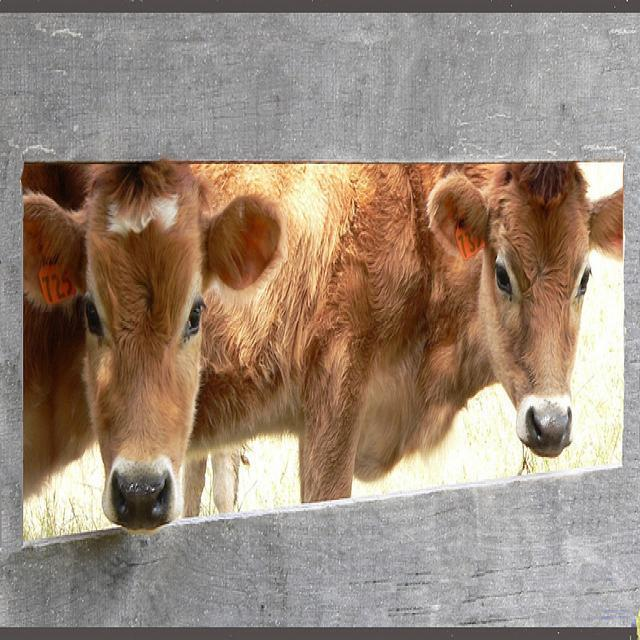cow: (161, 158, 623, 518), (19, 161, 288, 530)
